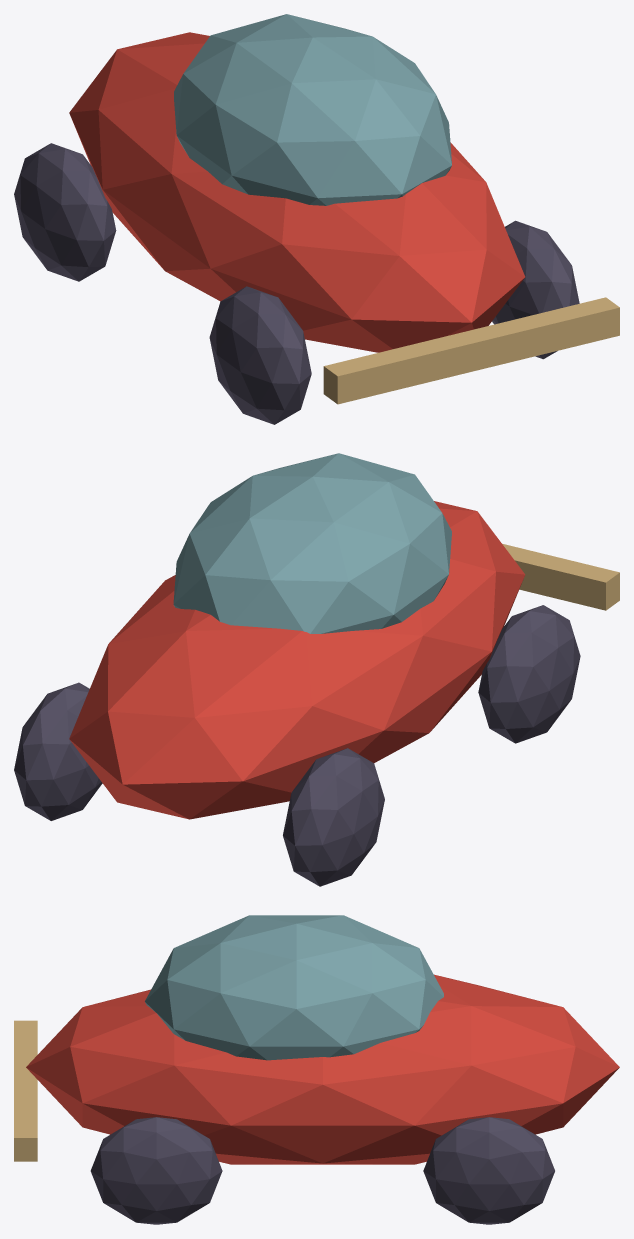
The picture shows the model from 3 angles, top to bottom: view 1: azimuth 30°, elevation 25°; view 2: azimuth 150°, elevation 25°; view 3: azimuth 270°, elevation 25°; orthographic projection. The views are drawn at different scales.
Visible parts, largest first — view 1: RC-018 Streamline red car batched; view 2: RC-018 Streamline red car batched; view 3: RC-018 Streamline red car batched.
Part boxes in pixels (bbox=[...]): RC-018 Streamline red car batched: bbox=[14, 14, 619, 424]; RC-018 Streamline red car batched: bbox=[14, 453, 619, 886]; RC-018 Streamline red car batched: bbox=[14, 915, 619, 1224].
Size of the model in its own units: 2.48 by 2.05 by 4.59.
